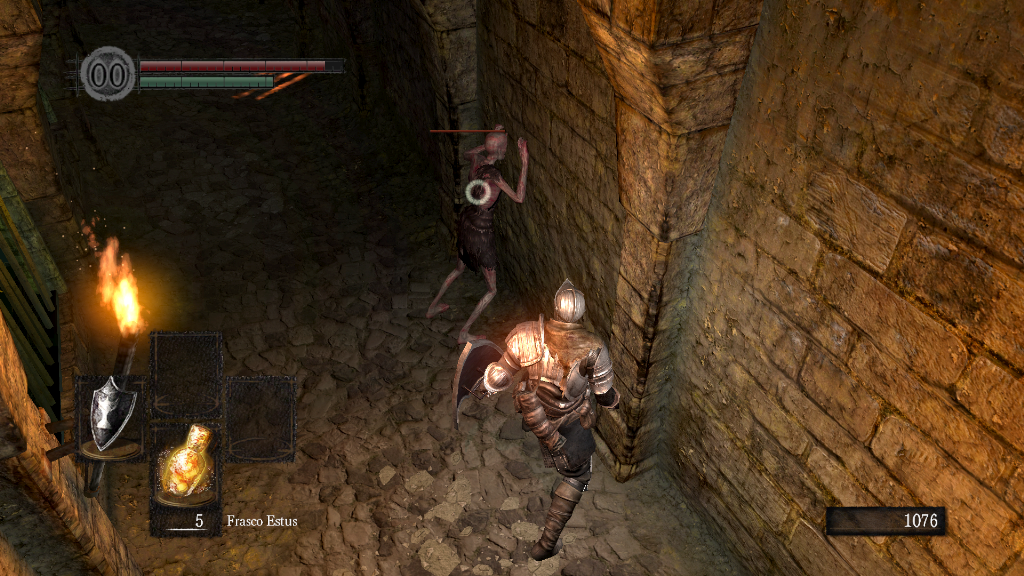health: (138, 58, 343, 71)
hollow: (429, 124, 531, 350)
humanity: (80, 45, 136, 102)
player: (449, 279, 624, 560)
souls: (825, 506, 945, 536)
stamina: (138, 74, 274, 88)
